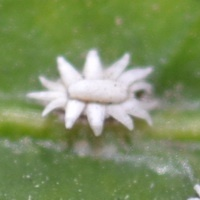insect: (27, 49, 156, 135)
